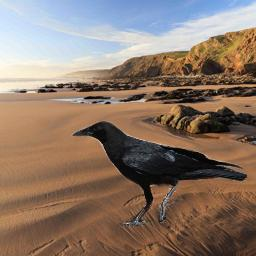Crow: (71, 119, 247, 226)
